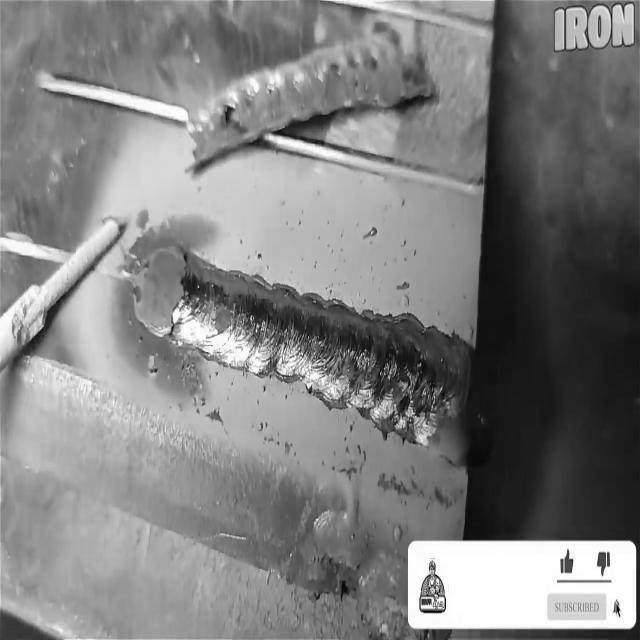Good Weld: (197, 274, 452, 448)
